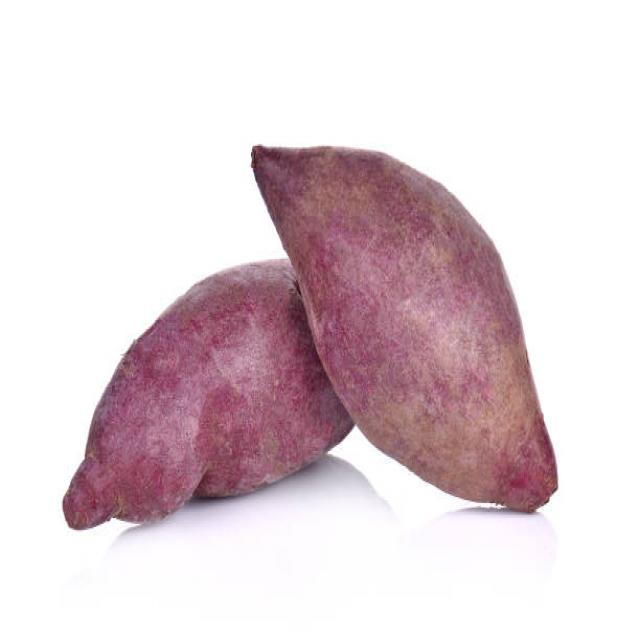Sweet Potato: (260, 135, 562, 510), (61, 253, 293, 532)
